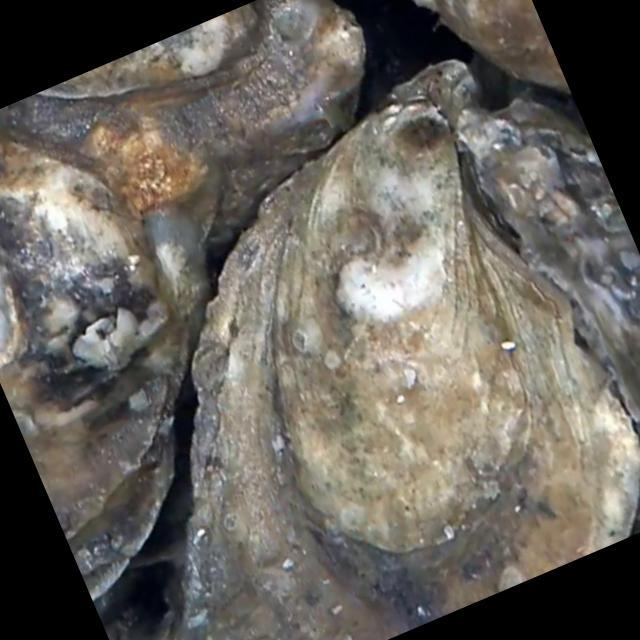Oyster- Indeterminate: (186, 62, 640, 640), (0, 0, 363, 334), (0, 118, 189, 602), (462, 96, 640, 413), (42, 2, 265, 100), (415, 0, 569, 93)
